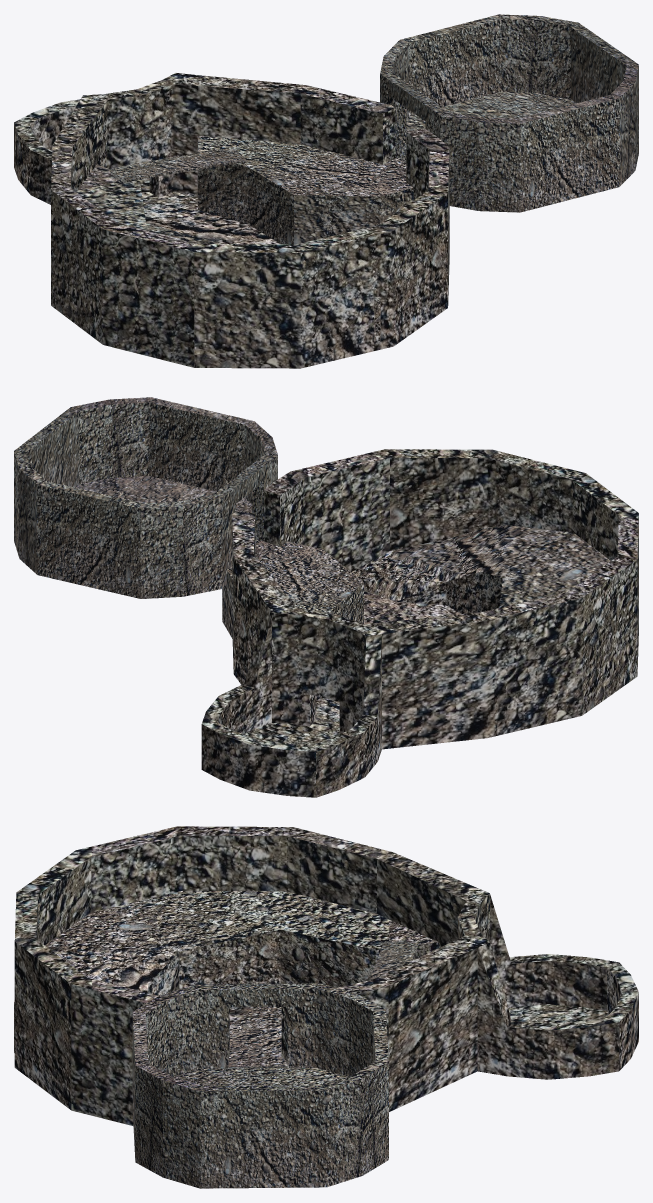
Rendered from FirstStage.fbx.
3 views of the same model, one above another, from view 1: azimuth 30°, elevation 25°; view 2: azimuth 150°, elevation 25°; view 3: azimuth 270°, elevation 25° (orthographic). The views are drawn at different scales.
Visible parts, largest first — view 1: Stage, bossRoom, Gake2, Gake1, bridge; view 2: Stage, bossRoom, Gake1, Gake2; view 3: Stage, bossRoom, Gake1, Gake2, bridge.
Boxes of the visible parts, bbox=[...] form: Stage: bbox=[14, 73, 449, 368]; bossRoom: bbox=[380, 14, 638, 212]; Gake2: bbox=[197, 135, 413, 244]; Gake1: bbox=[77, 164, 380, 344]; bridge: bbox=[108, 149, 247, 182]; Stage: bbox=[201, 449, 638, 797]; bossRoom: bbox=[14, 397, 277, 598]; Gake1: bbox=[351, 525, 610, 613]; Gake2: bbox=[222, 541, 363, 700]; Stage: bbox=[14, 826, 638, 1125]; bossRoom: bbox=[132, 983, 388, 1188]; Gake1: bbox=[14, 890, 439, 1052]; Gake2: bbox=[228, 1007, 287, 1066]; bridge: bbox=[370, 941, 418, 979].
Bounding box in the file's own units: 2149 × 523 × 1950.
Materials: 1 (1 with a texture image).
